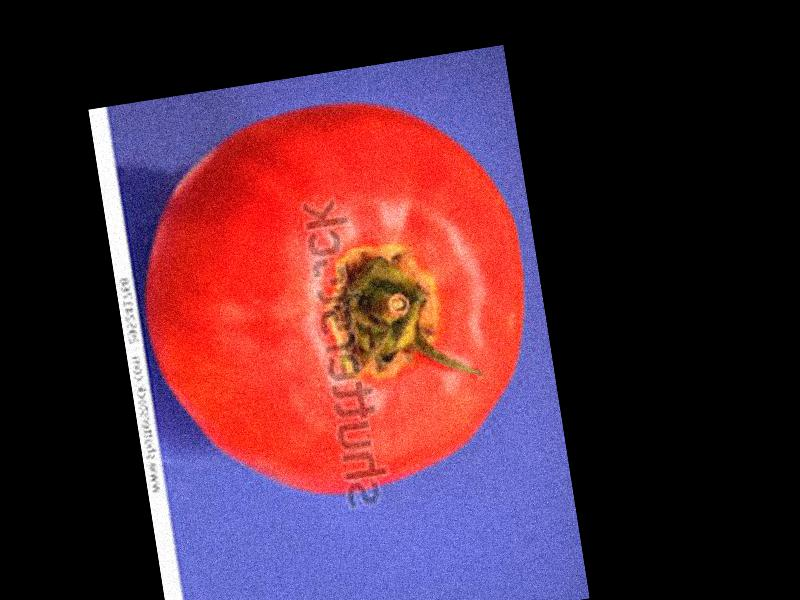Tomato: (126, 77, 552, 518)
